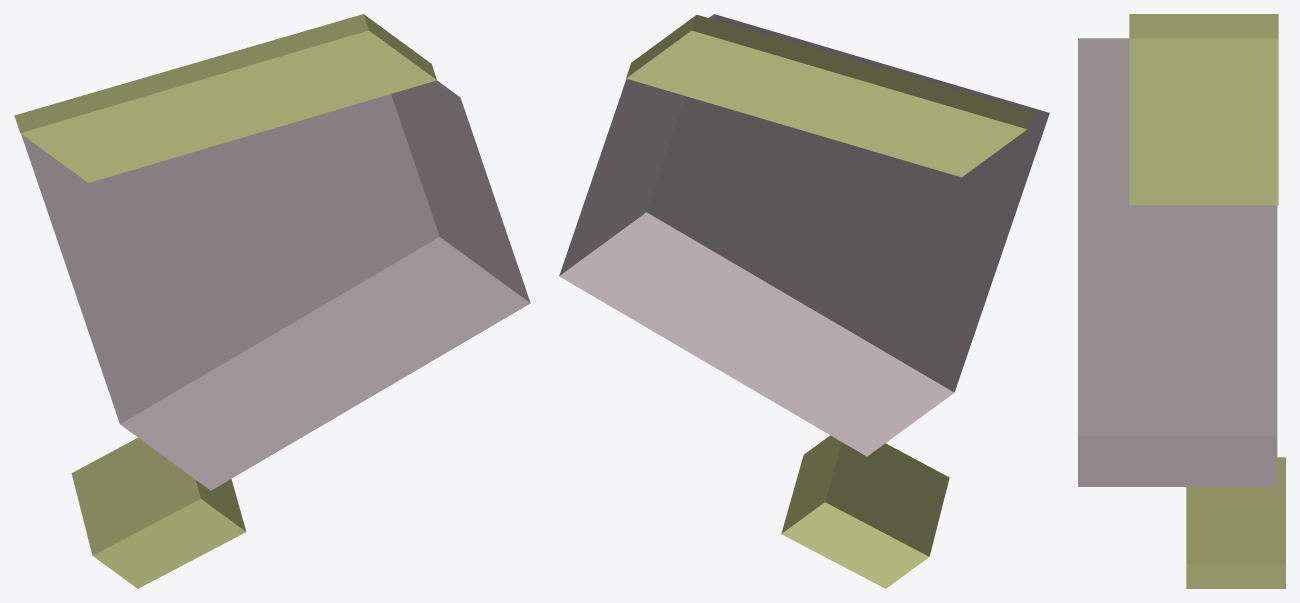
The picture shows the model from 3 angles, left to right: view 1: azimuth 30°, elevation 25°; view 2: azimuth 150°, elevation 25°; view 3: azimuth 270°, elevation 25°; orthographic projection. The views are drawn at different scales.
Visible parts, largest first — view 1: 0_2_0_1_1_2_1_1_0; view 2: 0_2_0_1_1_2_1_1_0; view 3: 0_2_0_1_1_2_1_1_0.
Part boxes in pixels (x1,y1,x2,y2): 0_2_0_1_1_2_1_1_0: [14, 14, 530, 588]; 0_2_0_1_1_2_1_1_0: [559, 14, 1049, 588]; 0_2_0_1_1_2_1_1_0: [1078, 14, 1285, 588].
Size of the model in its own units: 32.39 by 34.88 by 12.53.
